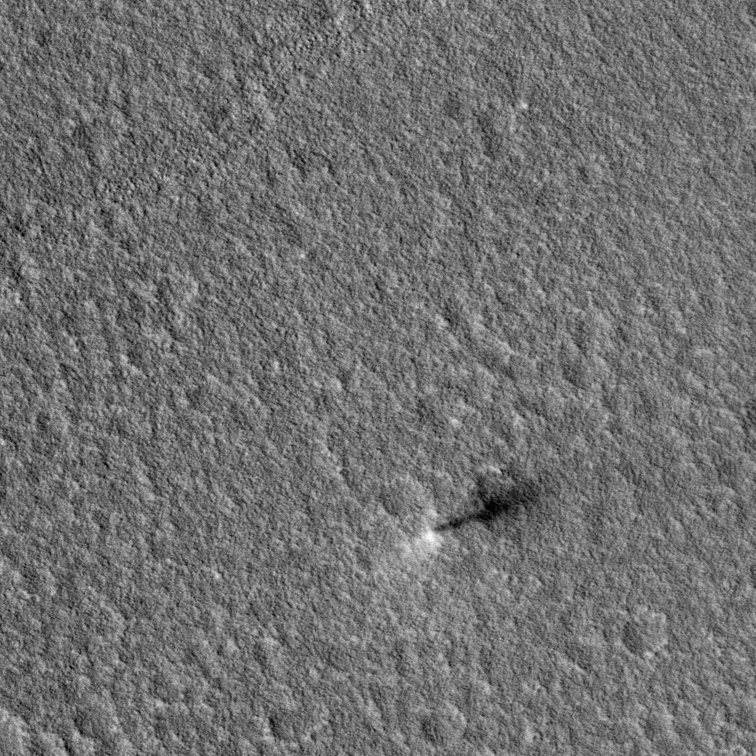dust_devil: (394, 468, 563, 562)
